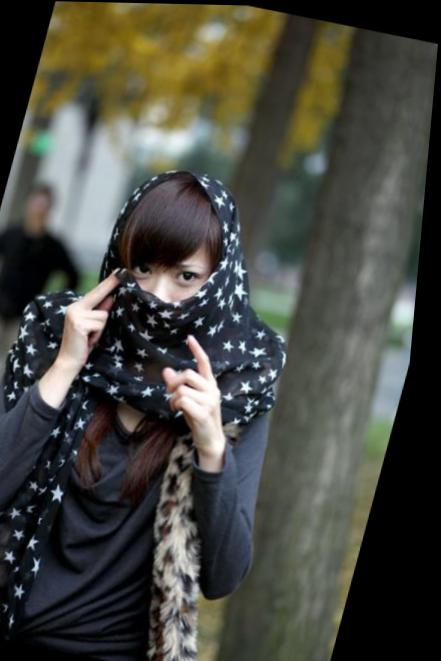WRONG: (113, 198, 232, 345)
